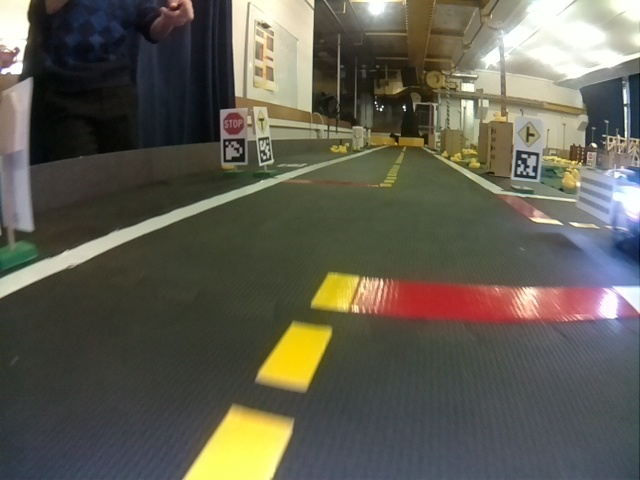Duckie: (562, 173, 575, 189), (495, 112, 505, 121), (442, 150, 451, 160), (470, 159, 479, 168), (450, 155, 460, 163), (330, 146, 338, 154), (339, 147, 348, 154)
Intersection sign: (519, 120, 543, 147), (255, 109, 269, 134)
QR code: (517, 151, 540, 179), (222, 139, 246, 163), (257, 136, 273, 163), (277, 161, 307, 169)
Stop sign: (223, 110, 244, 135)
